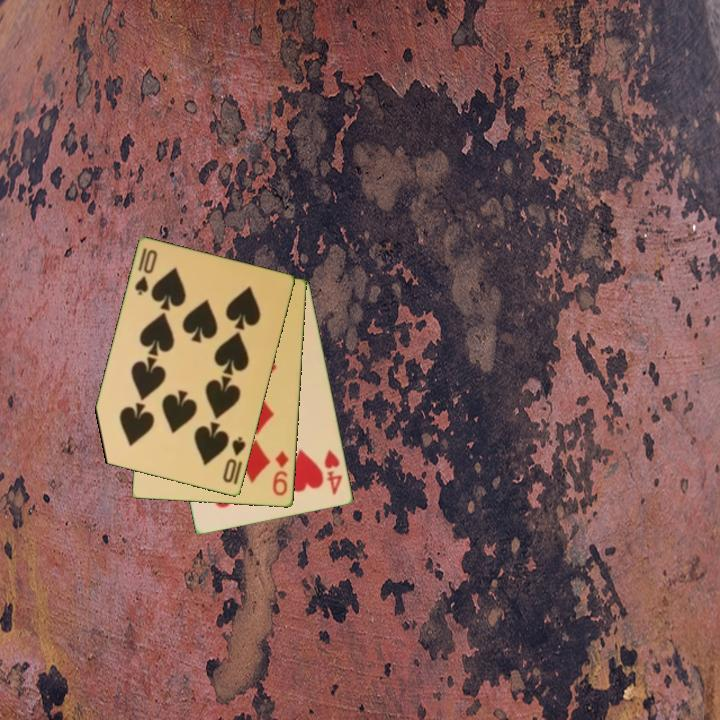10s: (219, 434, 249, 486), (131, 245, 160, 298)
4h: (321, 446, 345, 498)
9d: (270, 448, 292, 499)
